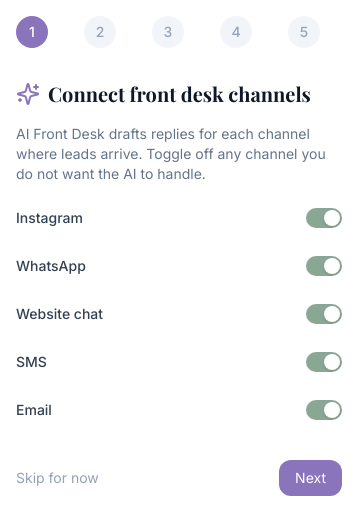
AISetupWizard › step 3 confirms approval mode is ON (autoReply.enabled = false)
The width and height of the screenshot is (359, 513).
Note: Step 0 → 1 → 2 (approval mode)
Click the button with test id "next-button" at (311, 478), box [279,460,342,496]
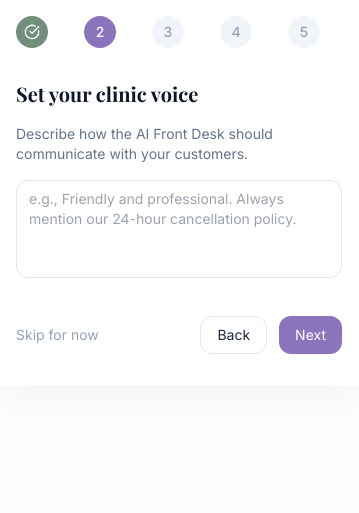
Click the button with test id "next-button" at (311, 335), box [279,316,342,354]
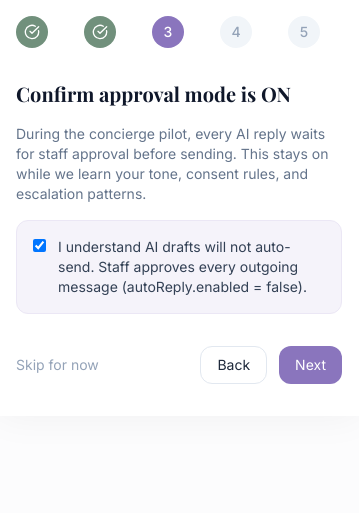
Check: the heading "Confirm approval mode is ON" is shown, box [16,80,291,107]
Check: the checkbox with test id "approval-confirm" is checked, box [33,239,46,252]
